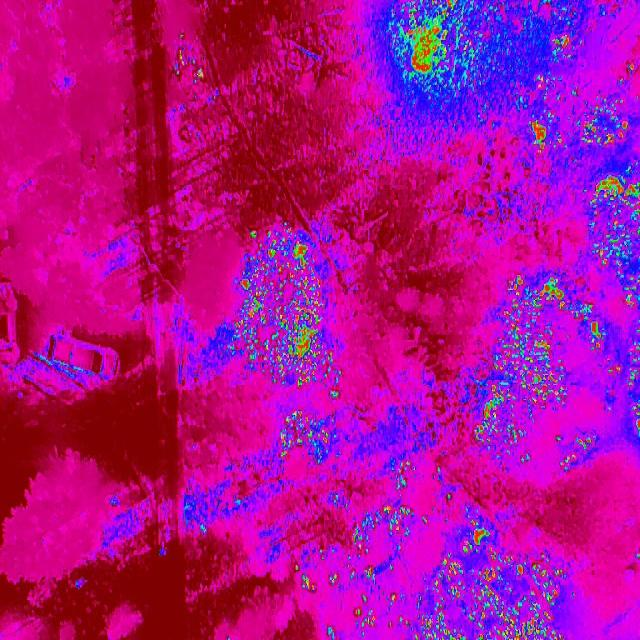fire: (471, 266, 577, 468), (237, 221, 346, 399), (416, 522, 576, 640), (378, 0, 523, 92), (585, 170, 640, 309), (352, 498, 428, 553), (545, 413, 603, 475), (278, 409, 337, 468), (580, 90, 632, 152), (544, 21, 586, 64), (621, 341, 640, 435), (528, 116, 561, 160), (392, 461, 419, 489), (294, 566, 316, 596), (588, 320, 604, 344)
